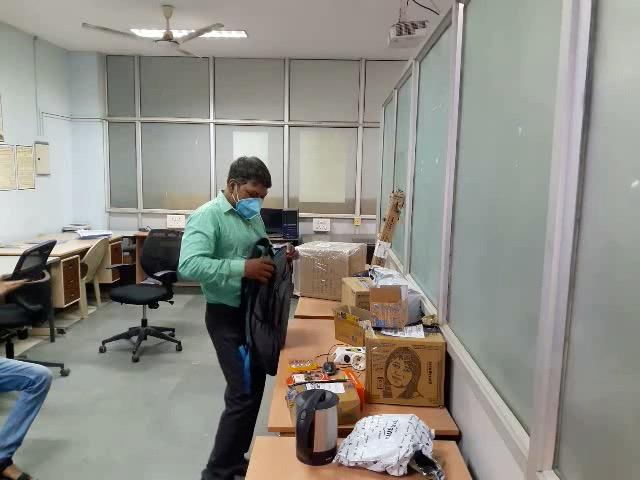shoplifting: (163, 209, 342, 388)
